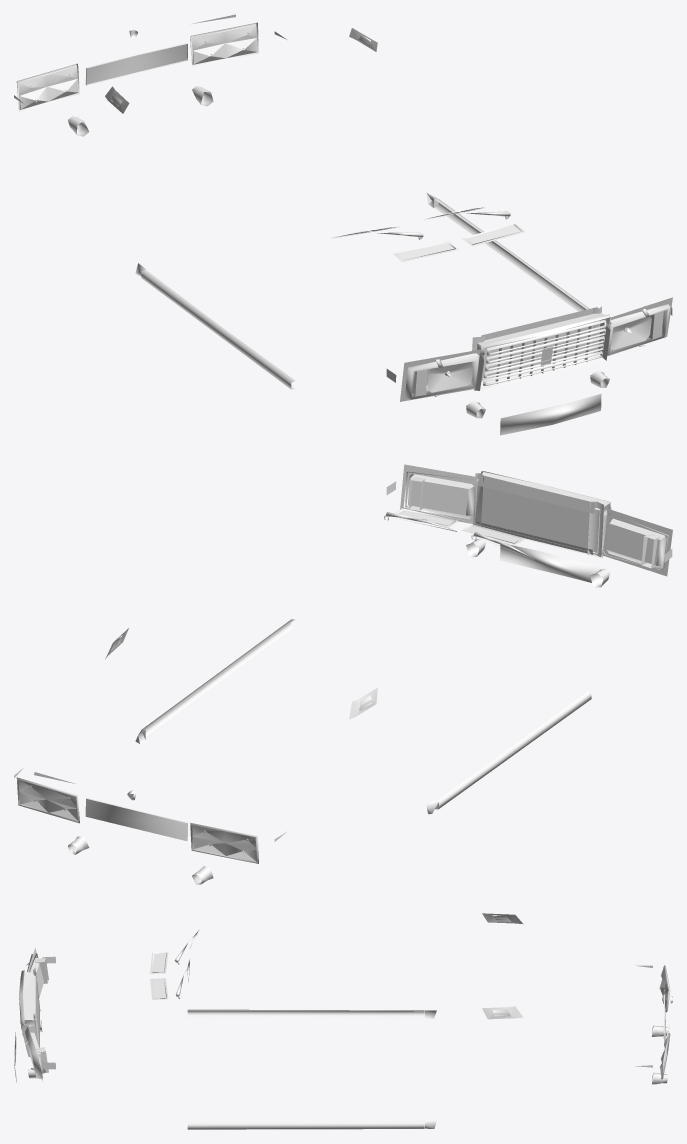
3 views of the same model, one above another, from view 1: azimuth 30°, elevation 25°; view 2: azimuth 150°, elevation 25°; view 3: azimuth 270°, elevation 25° (orthographic). The views are drawn at different scales.
Size of the model in its own units: 1.69 by 0.7782 by 4.1.
Materials: 1 (1 with a texture image).
